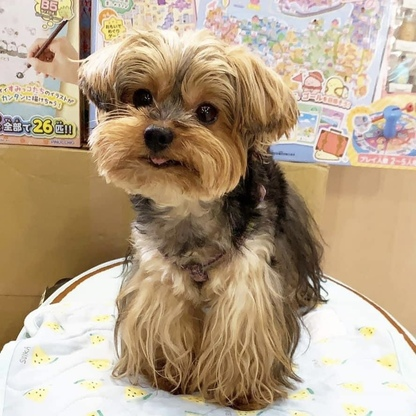yorkshire: (76, 26, 323, 413)
